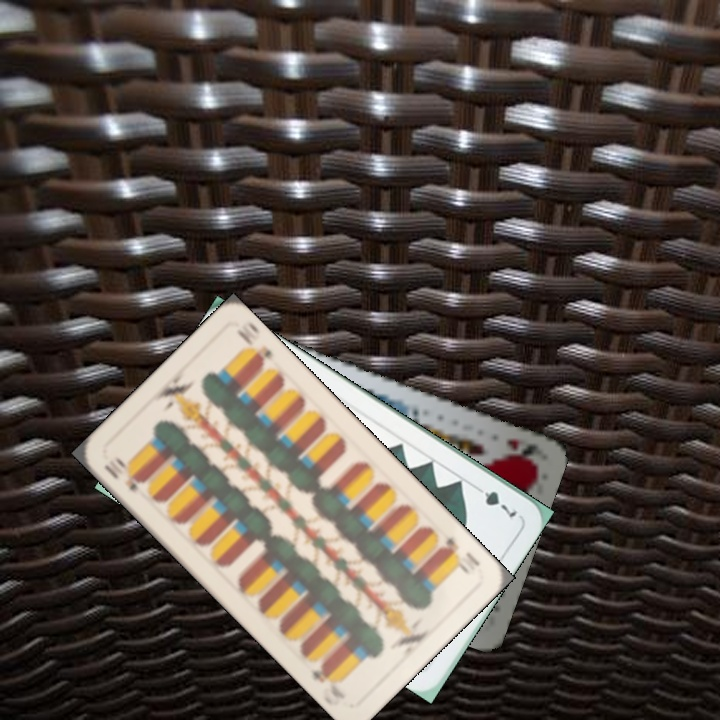E10: (437, 533, 483, 578), (100, 452, 147, 495)
G7: (469, 480, 520, 520)
HK: (502, 434, 544, 463)
